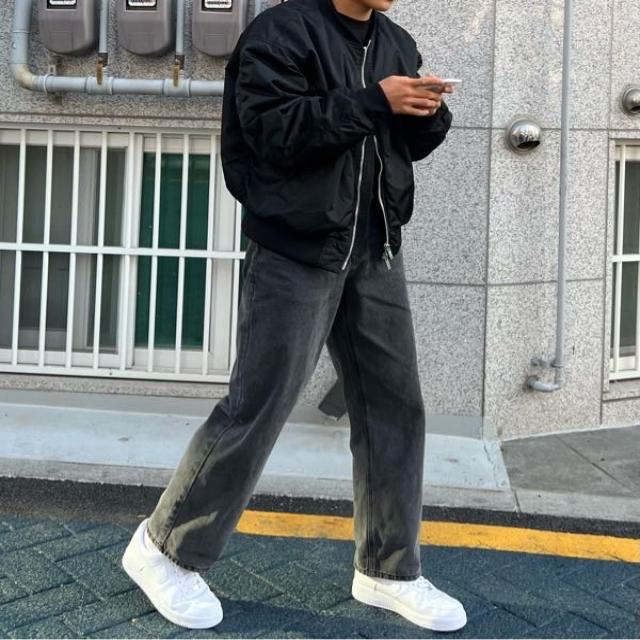denimpants: (136, 235, 429, 586)
jacket: (220, 1, 452, 257)
